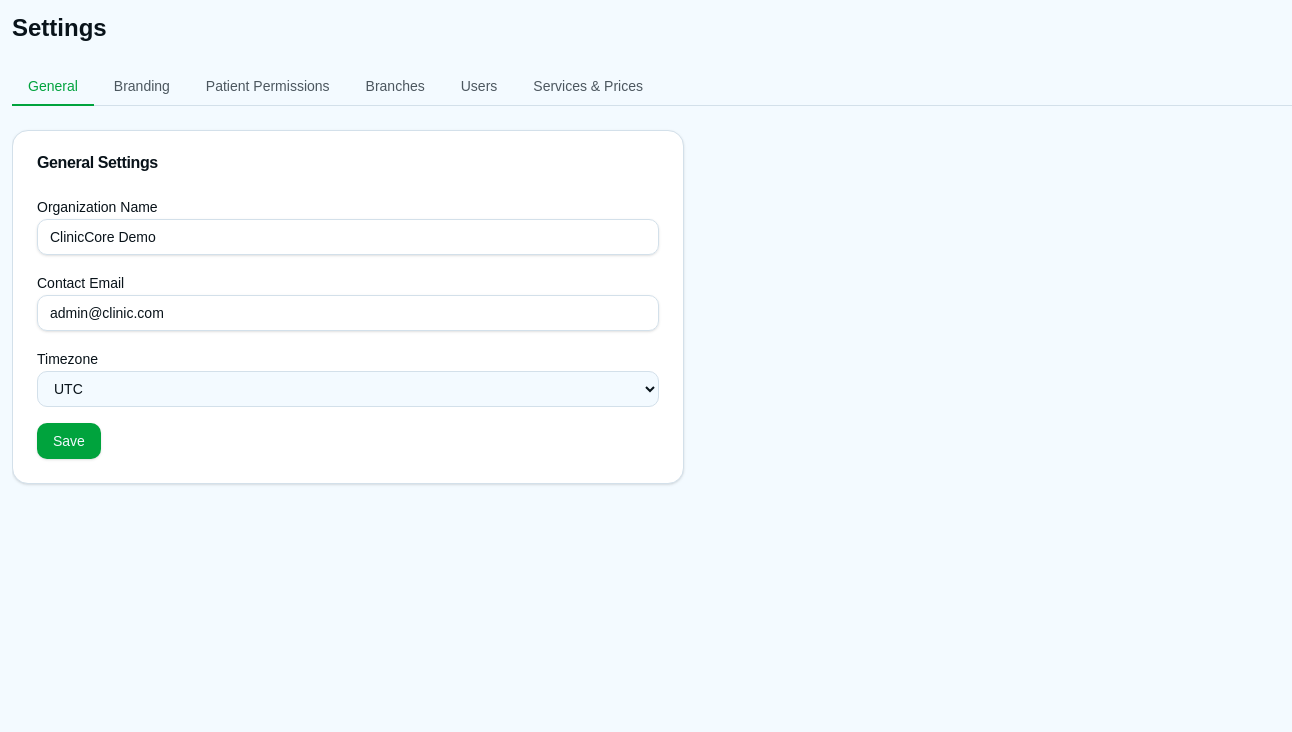
SettingsPage › switching to Branding section shows branding fields
Expected: the field labelled "Organization Name" is shown, [37,219,659,255]
Step 1. Click the button "Branding" → x=142, y=87, box [98,68,186,106]
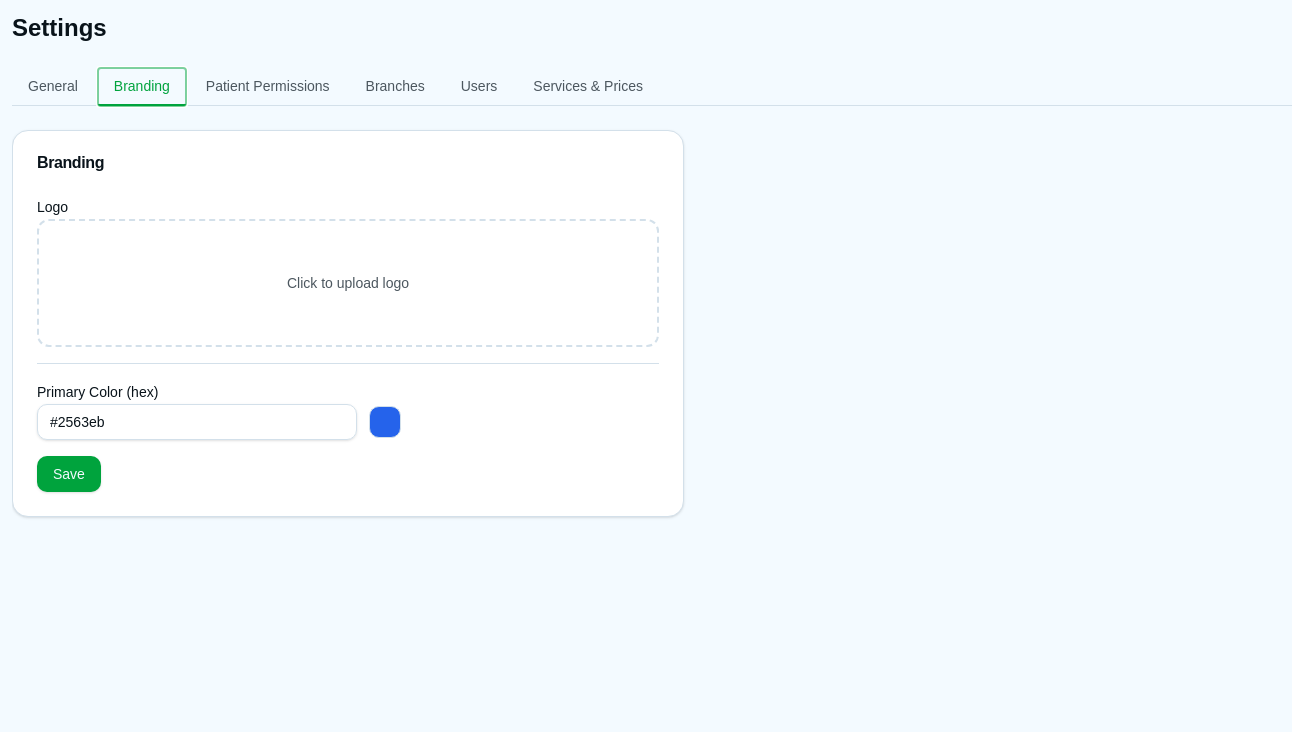
Expected: the field labelled "Primary Color (hex)" is shown, [37,404,357,440]
